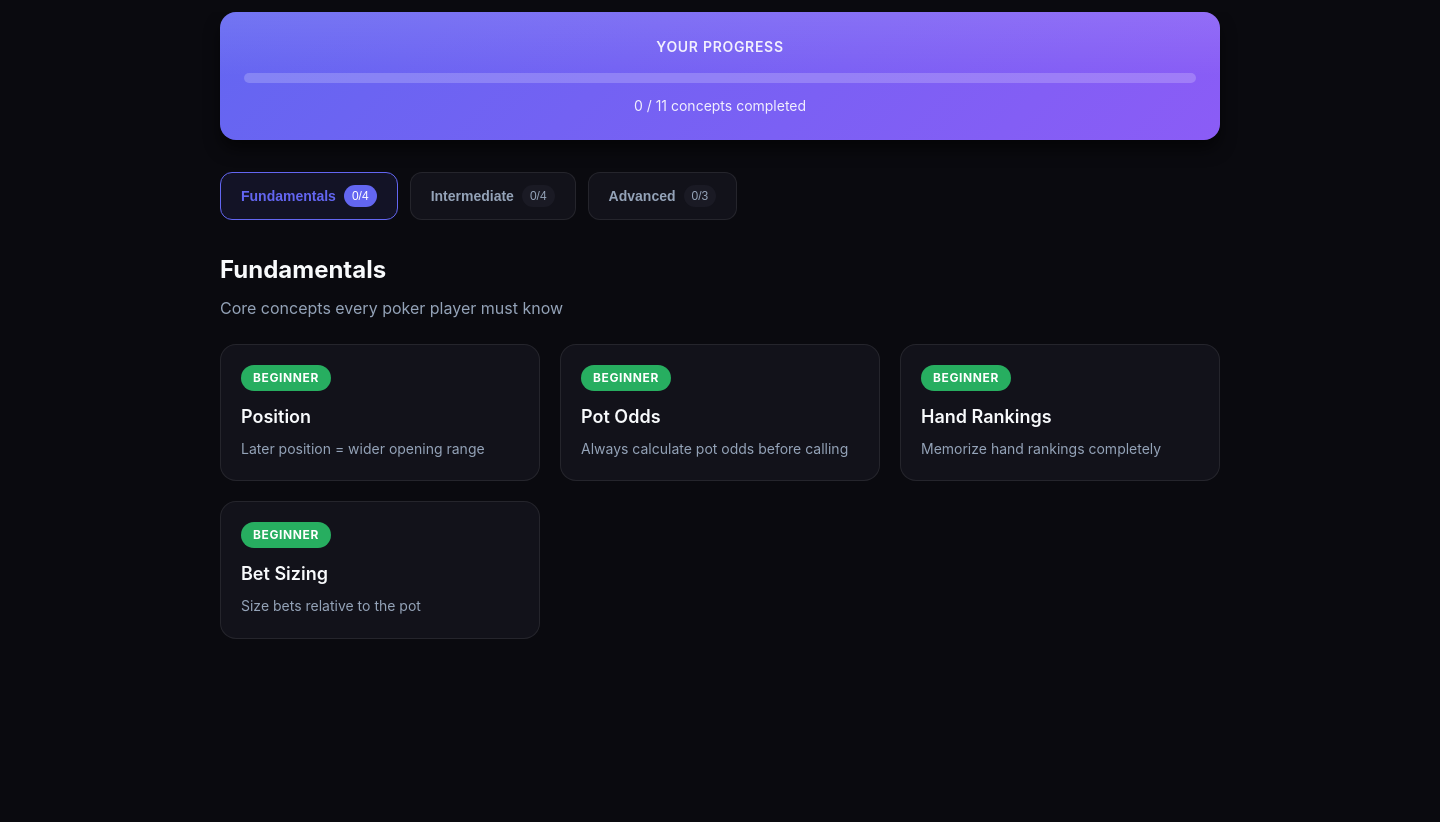
Test: ConceptsLibrary › Concept Detail View › should show concept detail when card is clicked
This screenshot has width=1440, height=822.
What coordinates should you click on to do the following:
click the heading "Position"
I would click on:
 (276, 416)
Its box is [241, 406, 311, 427].
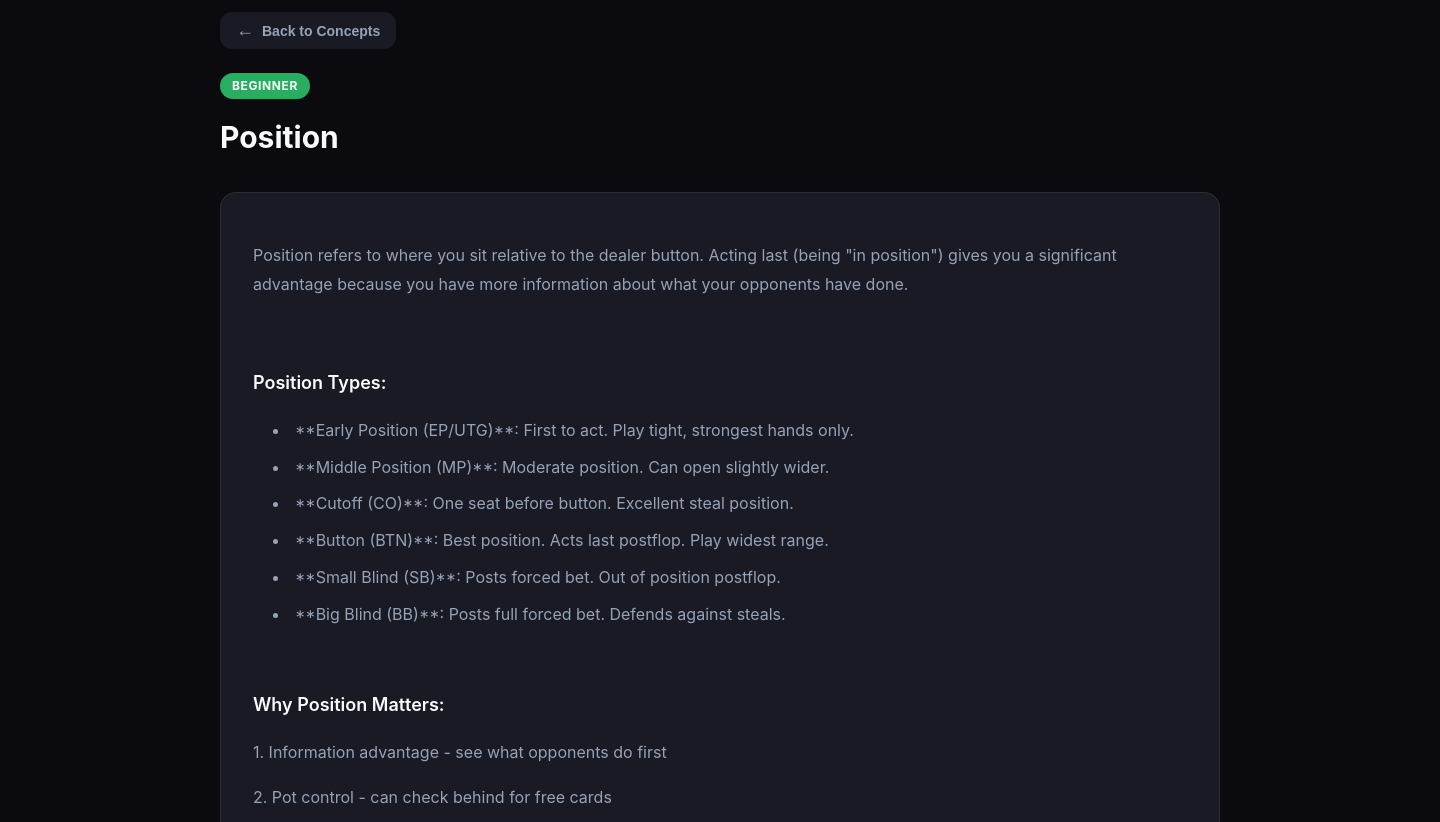
Expected: the button "Back to Concepts" is shown, [220, 12, 396, 49]
